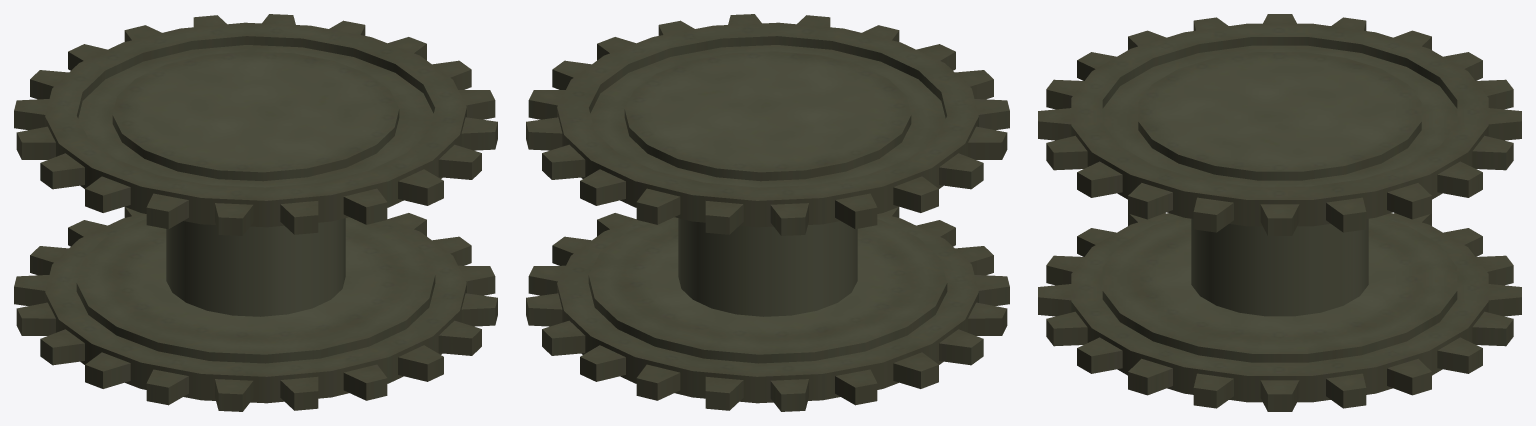
File: T-35_SprocketWheel.fbx
3 views of the same model, side by side, from view 1: azimuth 30°, elevation 25°; view 2: azimuth 150°, elevation 25°; view 3: azimuth 270°, elevation 25° (orthographic).
Parts seen in each view (by area): view 1: T-35_SprocketWheel; view 2: T-35_SprocketWheel; view 3: T-35_SprocketWheel.
Boxes of the visible parts, x1,y1,x2,y2 form: T-35_SprocketWheel: (14,14,497,411); T-35_SprocketWheel: (526,14,1009,411); T-35_SprocketWheel: (1038,14,1521,411).
Bounding box in the file's own units: 0.9969 × 0.46 × 0.9969.
